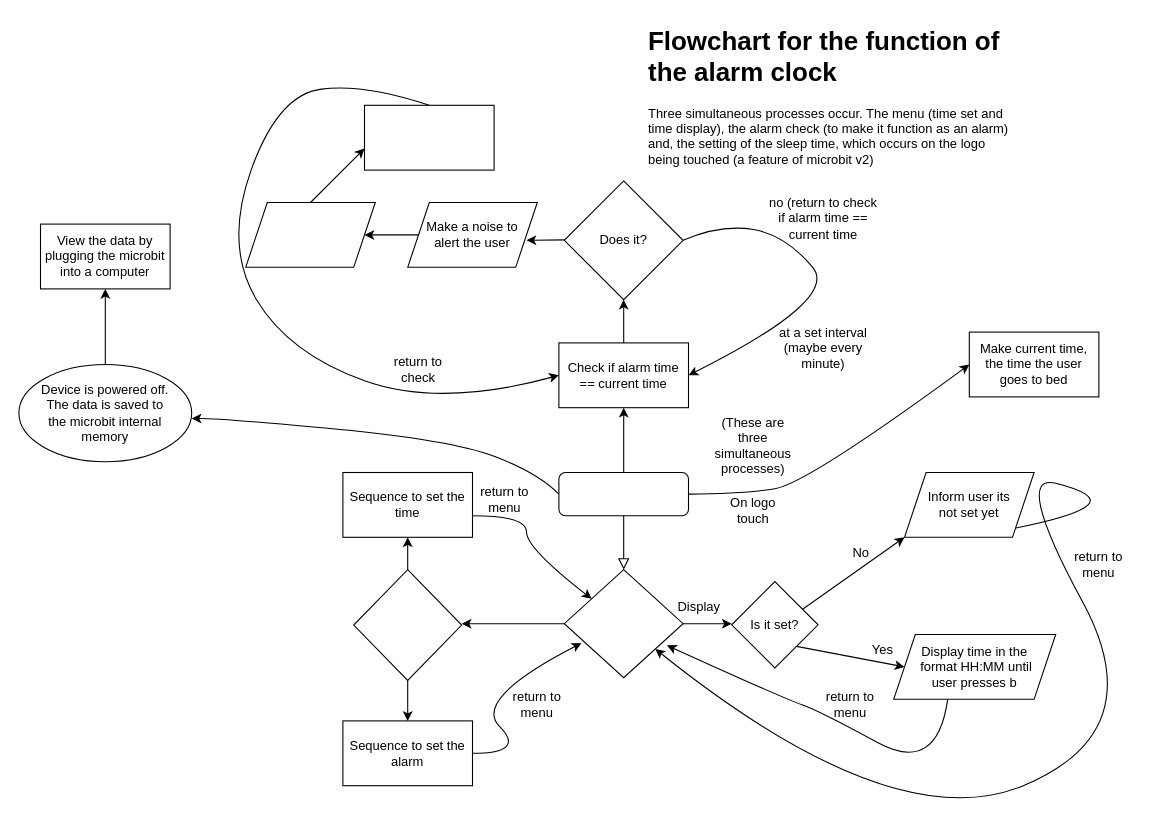
Image size: 1150x816. Some labels were removed from this diagram. Each missing label, with the centre of its shape:
"Device Power On" belongs at point 623,493.
"Internally log the mood and time slept" belongs at point 428,137.
"Menu: display time or set it?" belongs at point 623,623.
"The alarm or current time?" belongs at point 407,624.
"What's your current mood?" belongs at point 310,234.
